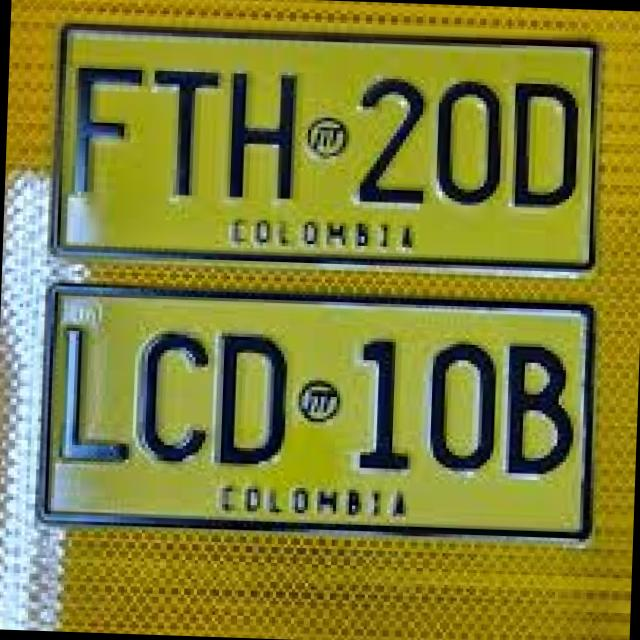number plate: (41, 282, 584, 532), (50, 22, 590, 262)
